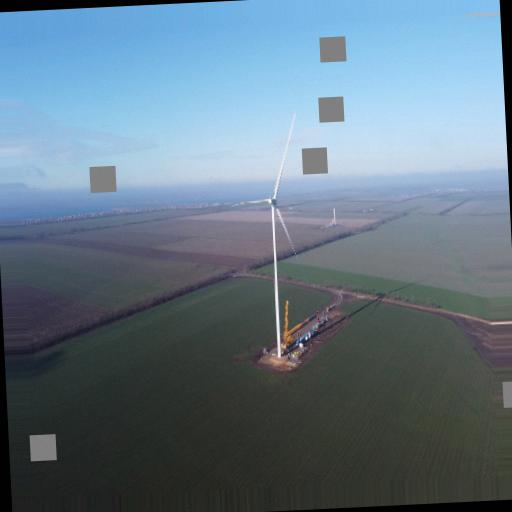wind turbine: (231, 111, 298, 361)
